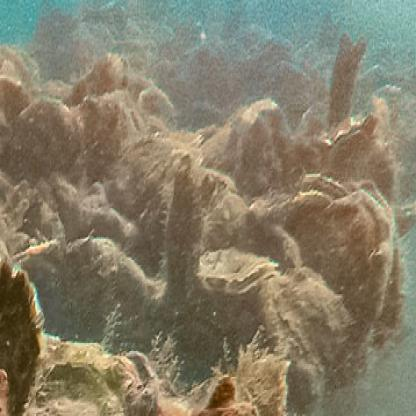3: (72, 53, 131, 107), (288, 176, 347, 226), (117, 349, 157, 414)
Oyster- Indeterminate: (197, 246, 275, 293), (321, 120, 375, 178)
Oyster-Closed: (292, 190, 388, 387), (264, 267, 341, 416), (0, 263, 41, 416), (107, 137, 185, 216), (235, 98, 291, 196), (88, 91, 137, 184), (12, 98, 77, 167), (202, 194, 250, 251), (115, 251, 147, 305), (0, 80, 34, 124), (87, 238, 119, 277)
